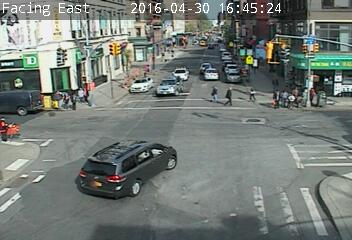neg: (207, 139, 229, 168), (292, 146, 313, 173), (31, 168, 50, 194), (143, 105, 161, 128), (306, 31, 323, 54), (33, 36, 49, 58), (266, 12, 282, 34), (243, 132, 259, 153), (166, 27, 181, 47), (99, 100, 113, 119), (125, 142, 139, 161), (147, 71, 160, 89), (180, 155, 193, 172), (16, 83, 28, 98), (22, 121, 33, 136), (77, 41, 86, 53), (135, 40, 143, 51), (165, 112, 173, 123), (198, 41, 205, 51), (109, 174, 116, 183), (22, 149, 27, 156)
pos: (206, 82, 221, 102), (221, 86, 236, 106), (72, 85, 86, 105), (298, 86, 312, 105), (80, 87, 94, 106), (55, 90, 69, 109), (308, 88, 321, 106), (270, 90, 283, 107), (279, 85, 292, 102), (283, 93, 296, 110), (247, 88, 258, 102), (271, 76, 280, 89), (291, 84, 298, 94)
